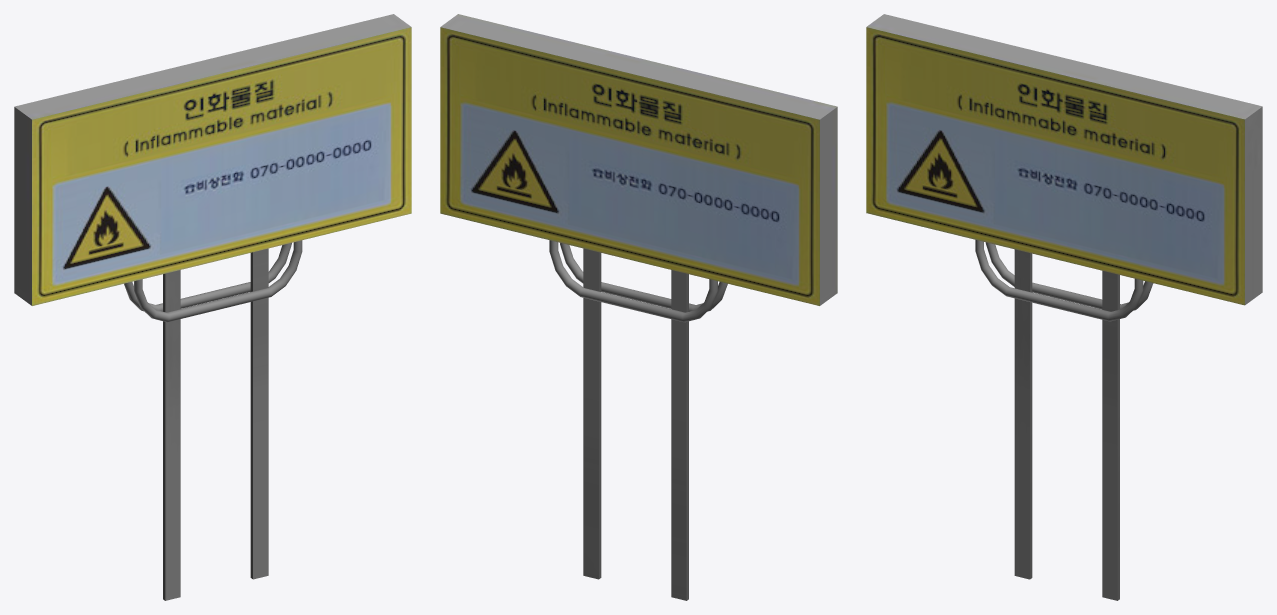
File: cautionInflammable.gltf
3 views of the same model, side by side, from view 1: azimuth 30°, elevation 25°; view 2: azimuth 150°, elevation 25°; view 3: azimuth 330°, elevation 25° (orthographic).
Parts seen in each view (by area): view 1: inflammable; view 2: inflammable; view 3: inflammable.
Boxes of the visible parts, <box> form: inflammable: <box>14,14,411,600</box>; inflammable: <box>440,14,837,600</box>; inflammable: <box>866,14,1262,600</box>.
Bounding box in the file's own units: 21.53 × 28.25 × 1.76.
1 material, 1 textured.
